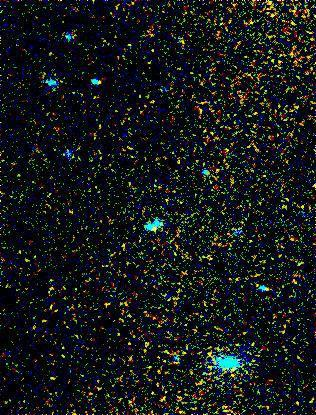star: (83, 69, 113, 99)
